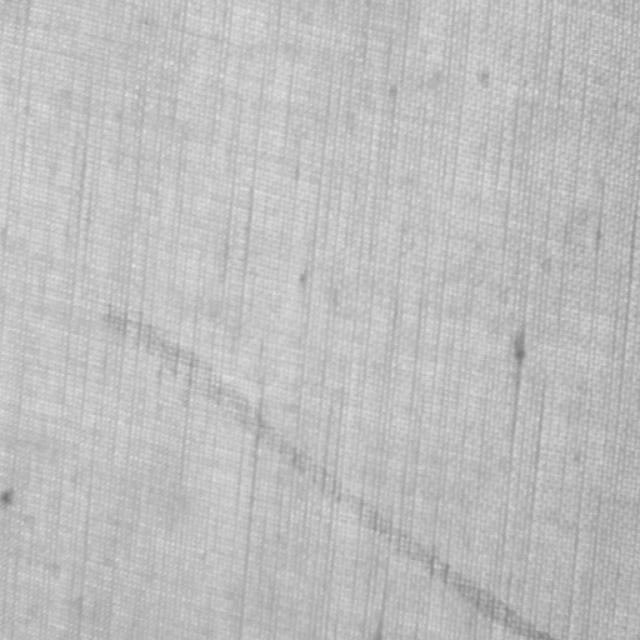oil spot: (92, 287, 551, 638)
